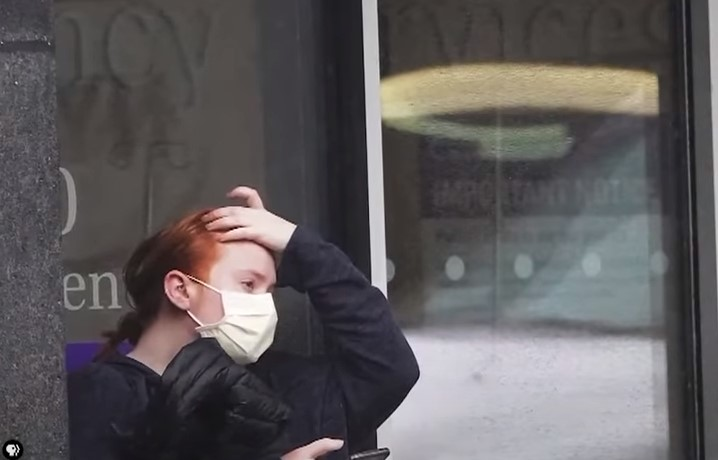face_with_mask: (147, 207, 281, 366)
